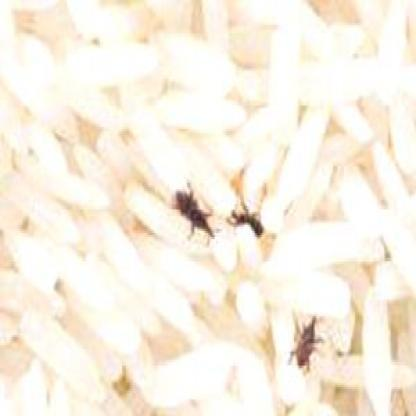rice-bug: (177, 180, 216, 242), (290, 312, 324, 372), (227, 197, 264, 238)
